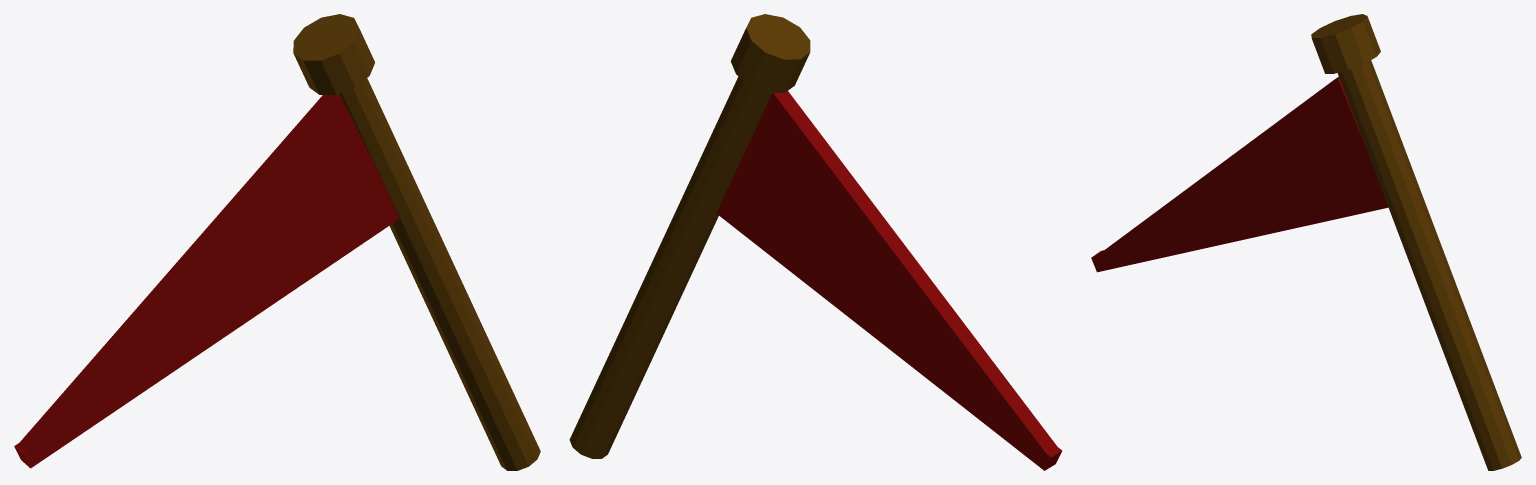
The model's file is Flag.fbx.
3 views of the same model, side by side, from view 1: azimuth 30°, elevation 25°; view 2: azimuth 150°, elevation 25°; view 3: azimuth 330°, elevation 25° (orthographic). The views are drawn at different scales.
Parts seen in each view (by area): view 1: pCylinder17; view 2: pCylinder17; view 3: pCylinder17.
Part boxes in pixels (bbox=[...]): pCylinder17: bbox=[14, 14, 540, 470]; pCylinder17: bbox=[569, 14, 1062, 470]; pCylinder17: bbox=[1091, 14, 1521, 470].
Size of the model in its own units: 3.07 by 2.81 by 0.3709.
